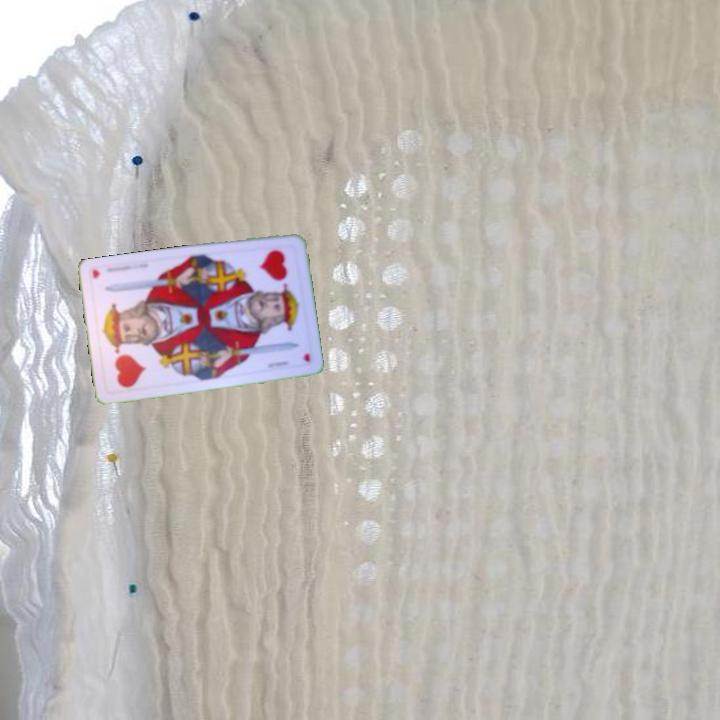h_k.png: (96, 321, 162, 395), (239, 240, 305, 313)
